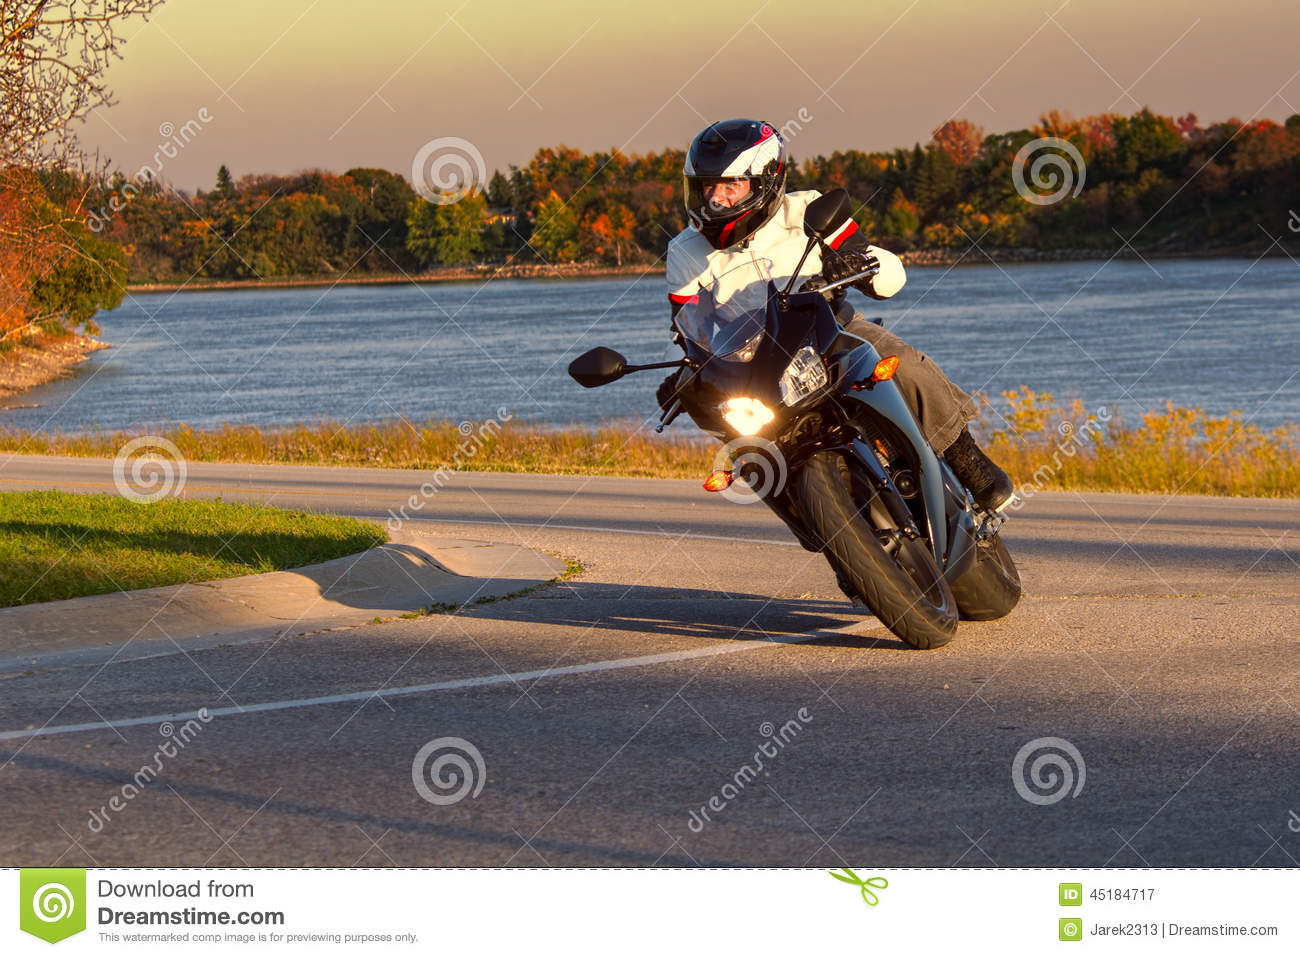helmet: (682, 105, 793, 263)
